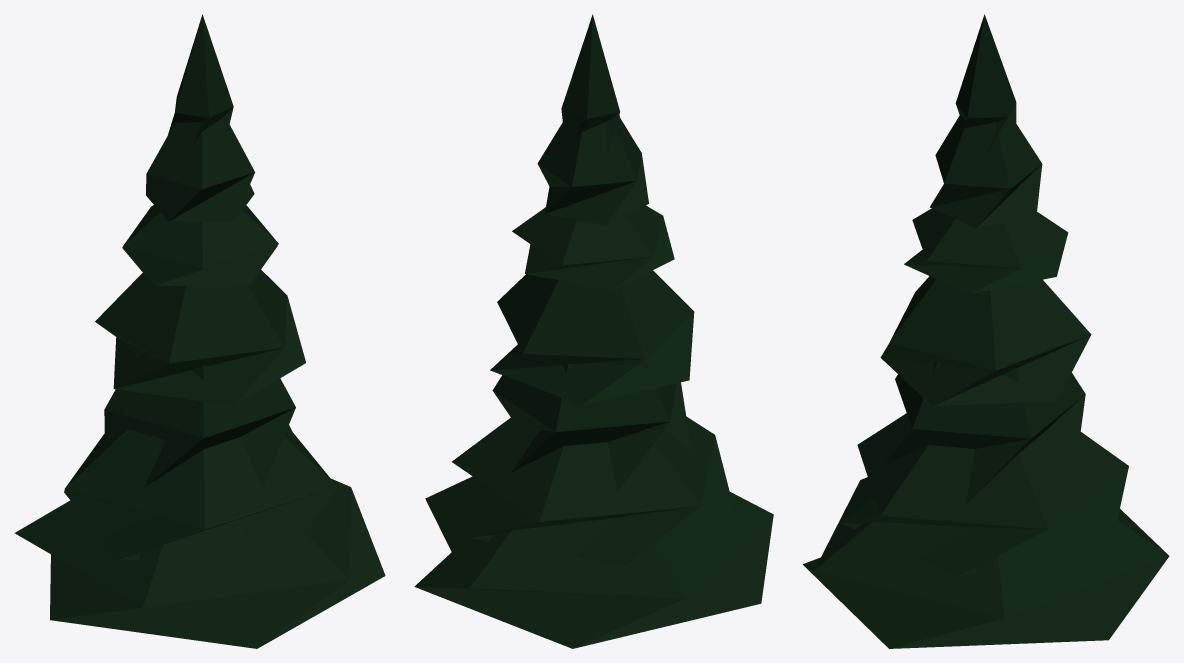
File: SM_Tree17.fbx
The picture shows the model from 3 angles, left to right: view 1: azimuth 30°, elevation 25°; view 2: azimuth 150°, elevation 25°; view 3: azimuth 270°, elevation 25°; orthographic projection.
Parts seen in each view (by area): view 1: Tree16; view 2: Tree16; view 3: Tree16.
Part boxes in pixels (box(x1,y1,x2,y2)): Tree16: box(14, 14, 385, 648); Tree16: box(414, 14, 773, 648); Tree16: box(803, 14, 1169, 648).
Size of the model in its own units: 197 by 343 by 193.
